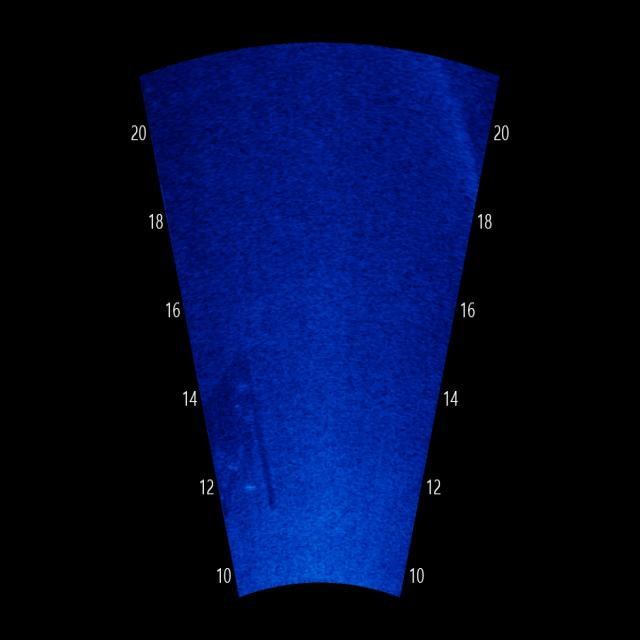triangle: (199, 352, 284, 513)
